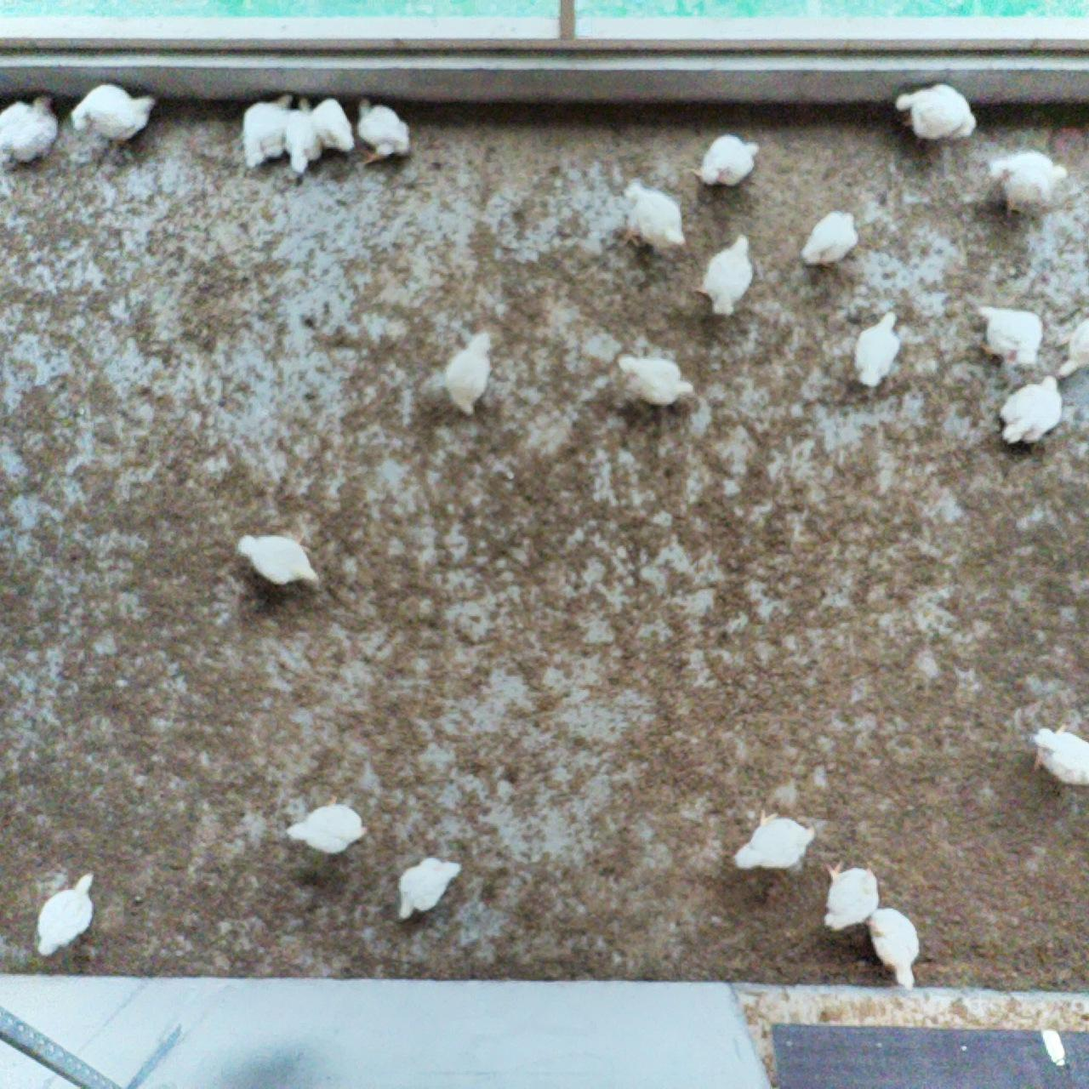chicken: (26, 868, 106, 964), (71, 80, 162, 160), (984, 147, 1070, 228), (232, 524, 326, 596), (729, 804, 818, 879), (279, 788, 371, 860), (892, 77, 981, 151), (614, 174, 691, 258), (689, 229, 758, 322), (861, 899, 927, 993), (0, 90, 64, 181), (997, 372, 1067, 453), (235, 90, 300, 177), (820, 854, 885, 940), (612, 348, 697, 413), (444, 328, 502, 421), (349, 91, 416, 170), (394, 851, 465, 925), (971, 300, 1045, 371), (683, 129, 763, 193), (1024, 716, 1089, 794), (795, 205, 863, 274), (849, 308, 906, 390), (281, 96, 328, 178), (310, 95, 356, 157), (1052, 314, 1089, 381)
